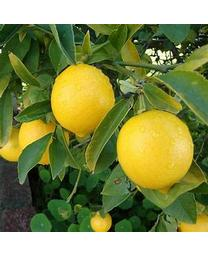lemon: (117, 110, 194, 195), (52, 63, 114, 138), (90, 209, 113, 231)
